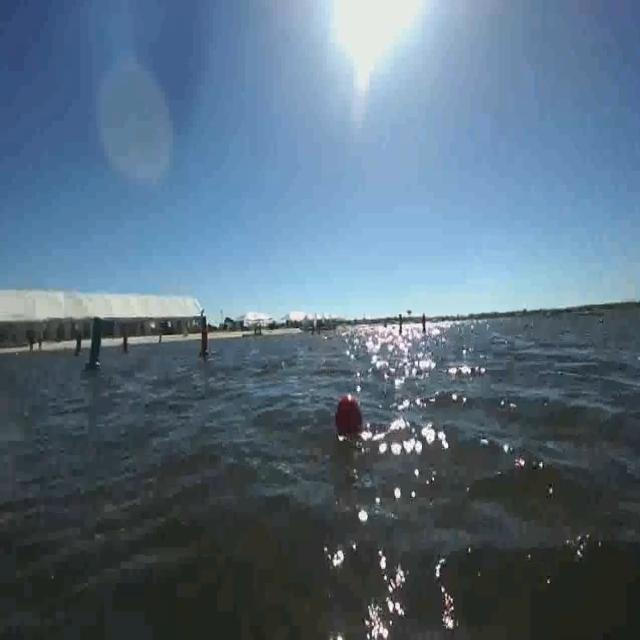green-column-buoy: (86, 315, 108, 372)
red-buoy: (335, 392, 365, 441)
red-column-buoy: (199, 324, 212, 359), (120, 330, 129, 356)
